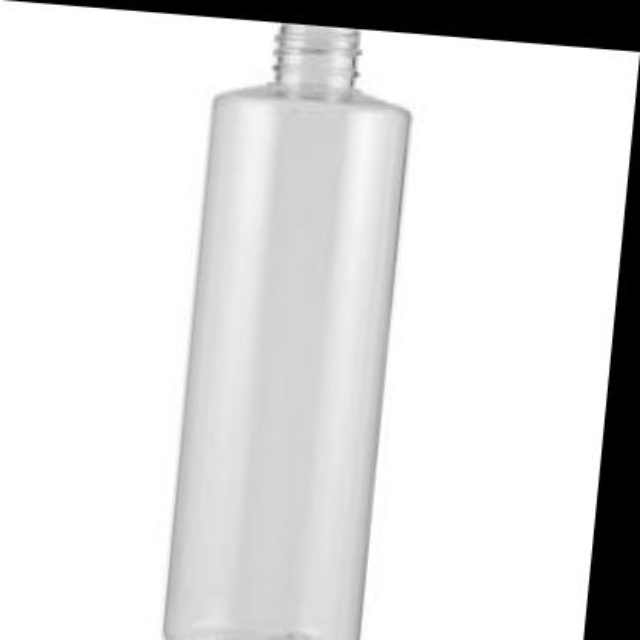trash: (165, 25, 408, 638)
